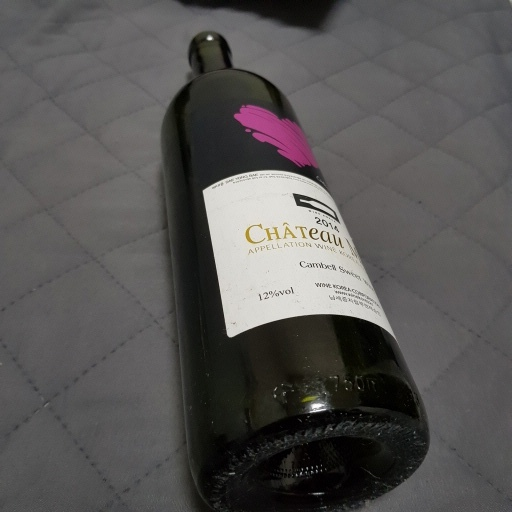Glass_2: (155, 23, 433, 512)
